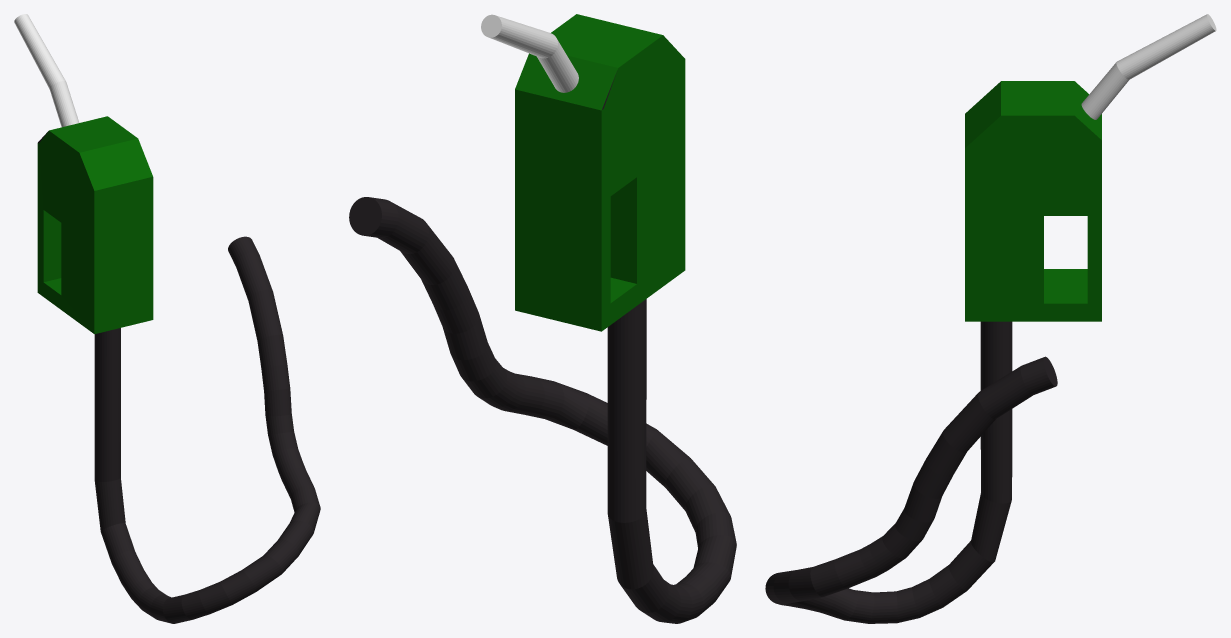
File: pump.fbx
3 views of the same model, side by side, from view 1: azimuth 30°, elevation 25°; view 2: azimuth 150°, elevation 25°; view 3: azimuth 270°, elevation 25° (orthographic). The views are drawn at different scales.
Parts seen in each view (by area): view 1: Cube; view 2: Cube; view 3: Cube.
Part boxes in pixels (<box>): Cube: <box>14,14,320,623</box>; Cube: <box>349,14,736,623</box>; Cube: <box>765,14,1216,623</box>.
Size of the model in its own units: 556 by 1387 by 933.
